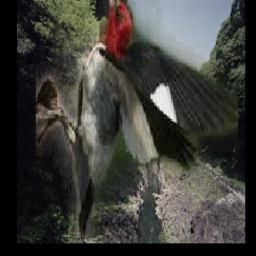Woodpecker: (37, 0, 239, 239)
